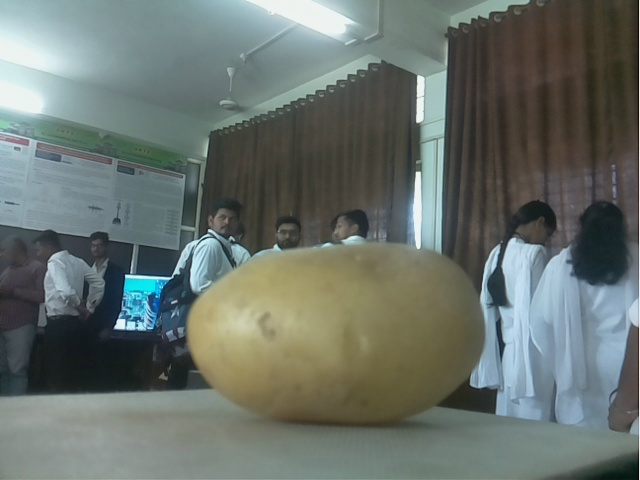Potato: (185, 242, 489, 421)
